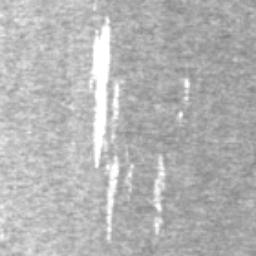White rust: (89, 16, 119, 168), (103, 156, 120, 240), (150, 156, 166, 212), (153, 217, 164, 236), (183, 78, 190, 102)
